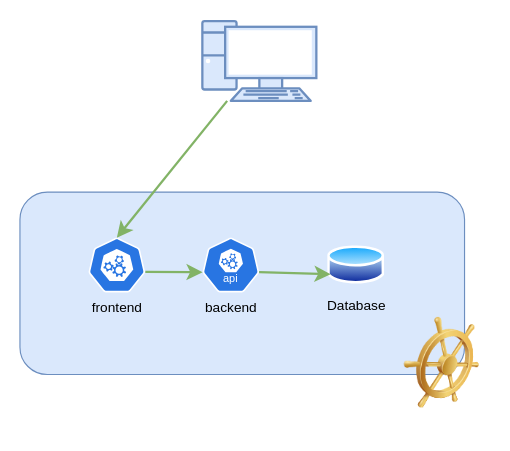
This 510x451 diagram has some shape labels left out. Each missing label, with the box of its shape:
k8s local cluster: (396, 317, 487, 408)
me: (201, 19, 317, 101)
